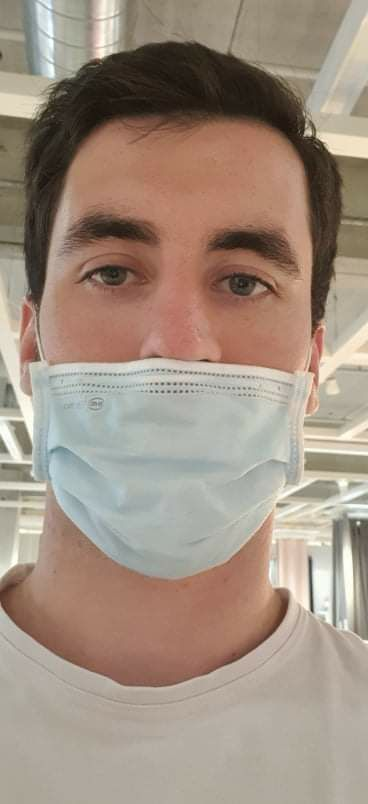with_incorrect_mask: (12, 52, 329, 567)
